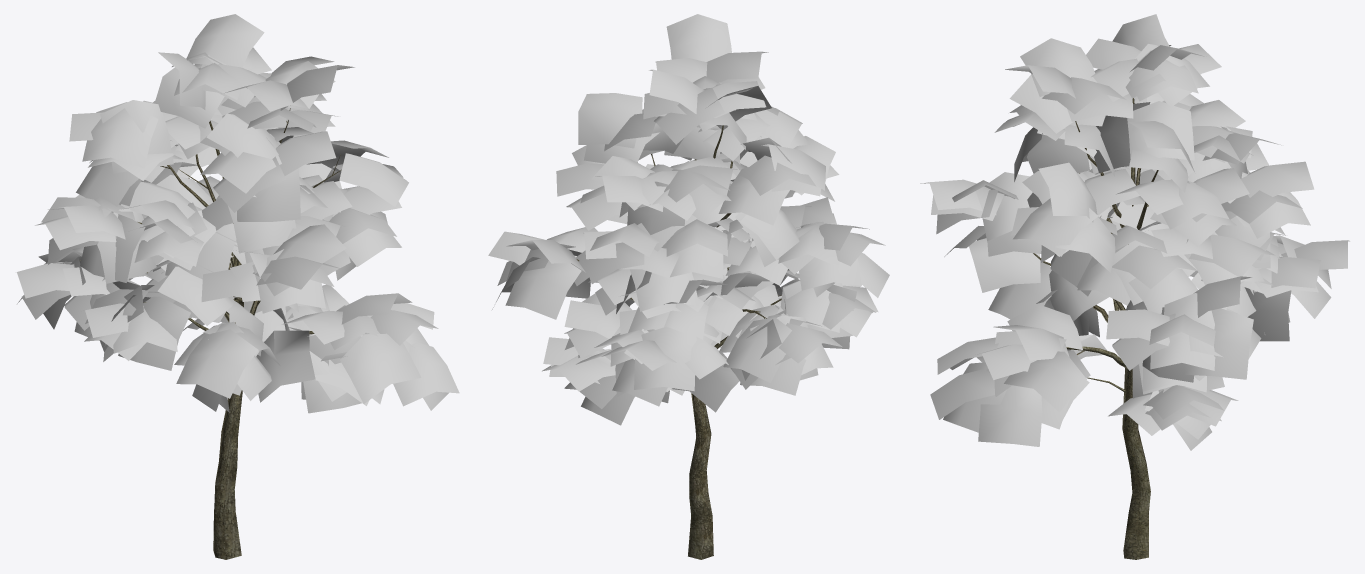
Rendered from tree1a_lod0.obj.
3 renders of one model, left to right at view 1: azimuth 30°, elevation 25°; view 2: azimuth 150°, elevation 25°; view 3: azimuth 270°, elevation 25°, orthographic. The views are drawn at different scales.
Visible parts, largest first — view 1: polySurface1041, polySurface101; view 2: polySurface1041, polySurface101; view 3: polySurface1041, polySurface101.
Part boxes in pixels (x1,y1,x2,y2): polySurface1041: (16,14,459,413); polySurface101: (79,108,341,559); polySurface1041: (488,14,889,425); polySurface101: (576,125,781,559); polySurface1041: (920,14,1349,450); polySurface101: (1033,98,1158,559).
Size of the model in its own units: 15.24 by 20.59 by 15.51.
